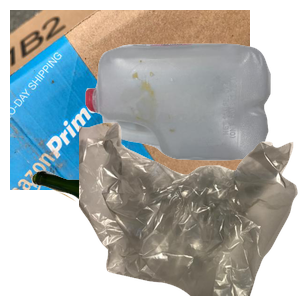cardboard: (10, 10, 250, 190)
glass: (29, 167, 241, 300)
plastic: (83, 41, 300, 194)
trash: (79, 120, 300, 300)
